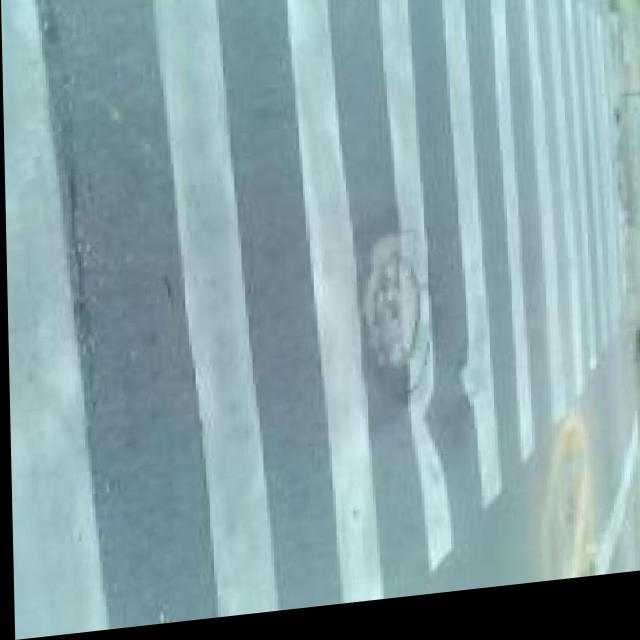zebra: (1, 22, 616, 602)
